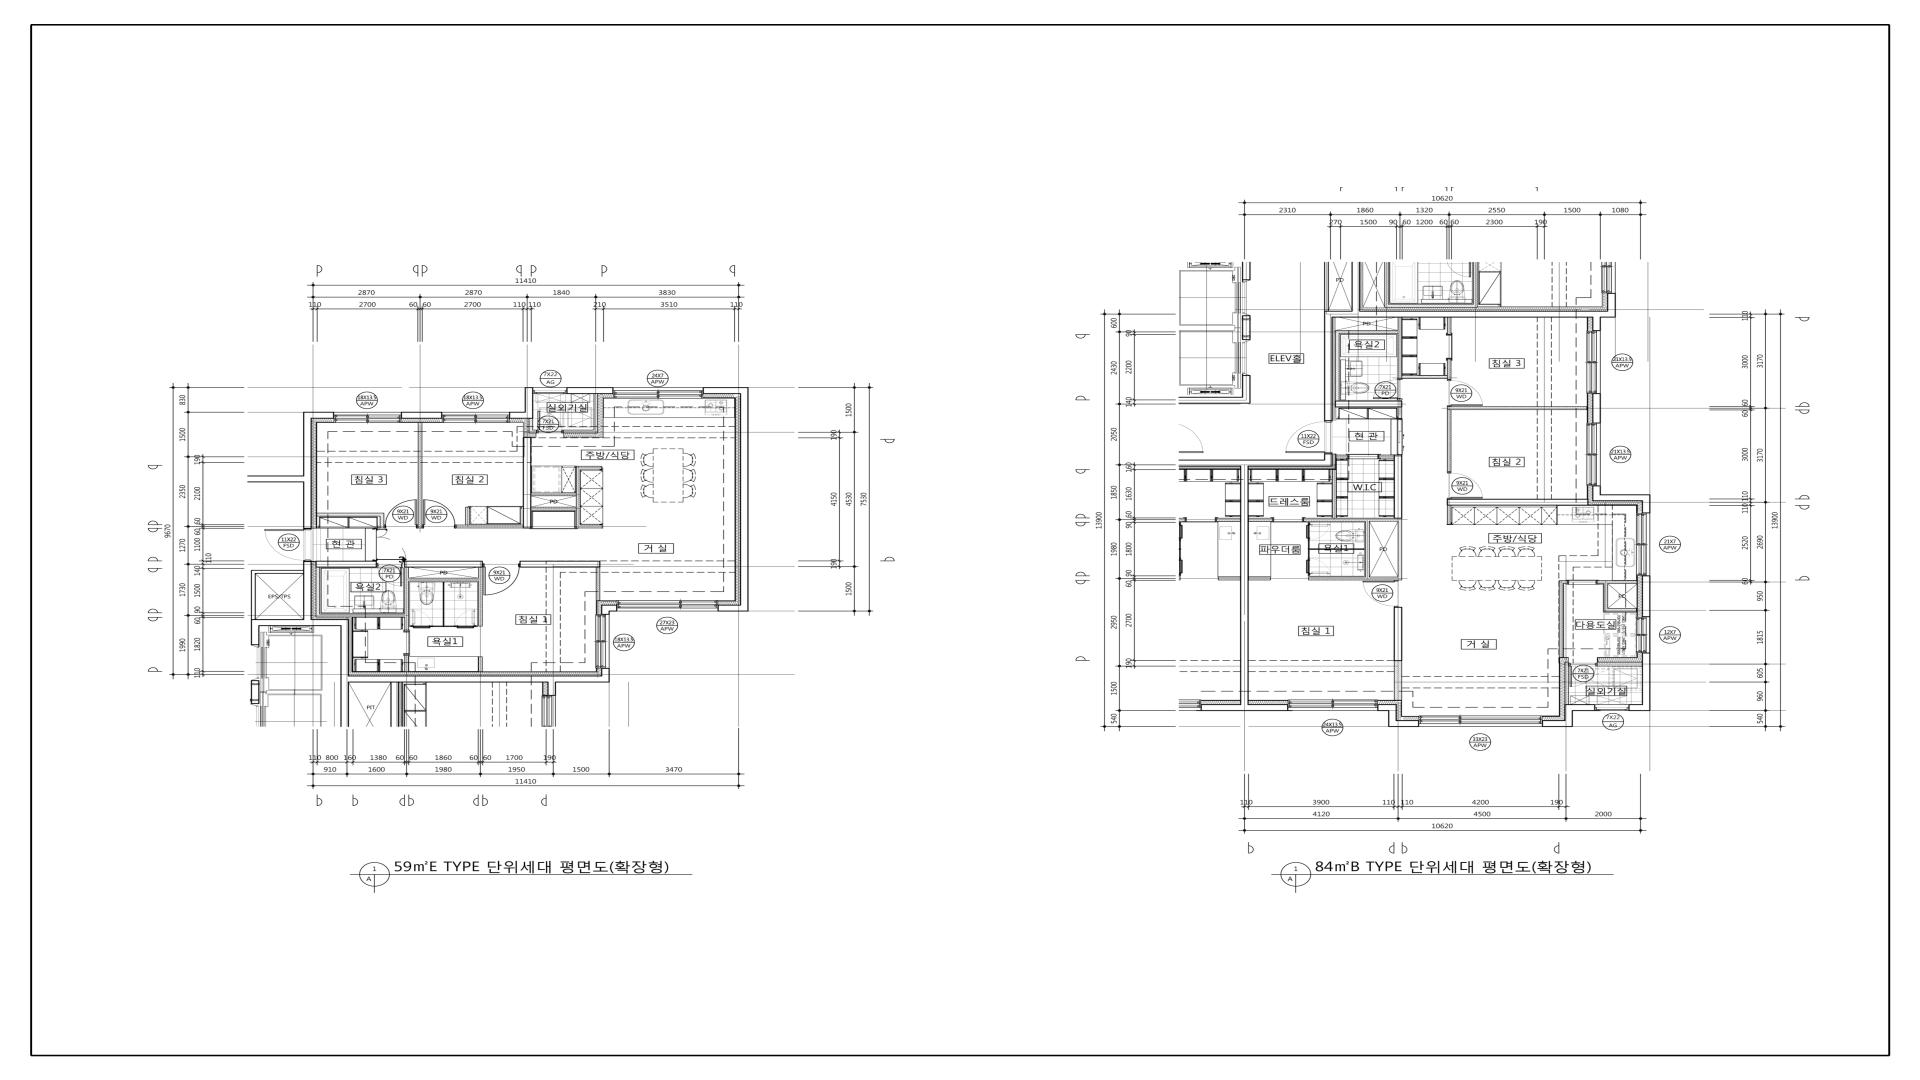door: (264, 528, 312, 561), (1285, 421, 1332, 453), (483, 563, 520, 595), (373, 529, 407, 561), (422, 499, 456, 529), (384, 499, 418, 528), (1363, 580, 1399, 607), (1447, 472, 1483, 499), (1447, 380, 1483, 406), (1569, 663, 1597, 687), (1373, 378, 1402, 401), (537, 411, 564, 433), (1306, 558, 1331, 576), (1306, 522, 1330, 540), (1397, 418, 1403, 455), (403, 630, 410, 656), (1446, 333, 1452, 360), (1273, 517, 1304, 522), (1348, 454, 1379, 459), (1568, 580, 1597, 585)
wall: (1240, 467, 1249, 704), (349, 675, 610, 683), (740, 394, 749, 605), (1324, 311, 1616, 317), (1179, 460, 1332, 467), (1447, 499, 1589, 506), (1324, 317, 1333, 421), (340, 626, 349, 727), (303, 418, 311, 529), (1394, 607, 1402, 701), (523, 437, 531, 528), (251, 619, 349, 626), (1201, 704, 1288, 711), (1447, 406, 1588, 410), (520, 561, 600, 568), (303, 561, 312, 619), (1394, 455, 1402, 518), (1179, 397, 1251, 404), (404, 561, 483, 567), (1642, 653, 1651, 704), (418, 423, 422, 528), (1335, 401, 1403, 407), (1352, 262, 1360, 311), (1642, 576, 1651, 617), (316, 561, 376, 567), (1593, 494, 1642, 501), (247, 476, 303, 482), (567, 387, 613, 394), (703, 387, 748, 394), (404, 567, 409, 630), (1447, 410, 1452, 472), (478, 567, 483, 626), (1304, 518, 1402, 521), (1559, 584, 1563, 657), (401, 412, 442, 419), (1365, 521, 1370, 577), (1308, 577, 1398, 580), (1592, 393, 1601, 423), (1335, 334, 1339, 401), (316, 614, 405, 617), (1335, 330, 1398, 334), (1324, 262, 1329, 311), (251, 570, 256, 619), (1398, 317, 1402, 378), (1332, 470, 1337, 518), (1398, 521, 1402, 580), (1242, 315, 1251, 340), (576, 469, 580, 525), (1542, 720, 1573, 727), (303, 412, 334, 419), (718, 605, 748, 612), (409, 578, 478, 581), (317, 513, 384, 516), (456, 525, 523, 528), (525, 387, 533, 412), (1242, 375, 1251, 397), (251, 680, 259, 704), (256, 570, 303, 574), (316, 567, 320, 614), (1597, 662, 1642, 666), (531, 507, 576, 511), (1402, 375, 1447, 379), (1642, 494, 1651, 513), (1565, 662, 1569, 704), (509, 412, 533, 419), (1242, 262, 1251, 280), (1597, 580, 1637, 584), (601, 605, 617, 615), (1629, 704, 1651, 711), (1397, 720, 1419, 727), (1573, 704, 1595, 711), (251, 626, 259, 645), (1388, 711, 1397, 727), (1564, 704, 1573, 720), (594, 394, 598, 430), (596, 567, 600, 601), (531, 493, 576, 496), (1378, 704, 1397, 711), (1592, 318, 1601, 331), (1608, 608, 1637, 612), (1604, 584, 1608, 612), (529, 419, 537, 433), (1310, 548, 1365, 550), (564, 430, 598, 433), (1249, 518, 1273, 522), (1447, 361, 1452, 380), (465, 507, 470, 525), (404, 655, 409, 671), (1447, 317, 1452, 333), (576, 466, 602, 469), (576, 525, 602, 528), (1447, 506, 1451, 525), (478, 657, 483, 671), (1249, 577, 1271, 580), (1593, 486, 1601, 494), (601, 668, 610, 675), (1324, 453, 1332, 460), (380, 516, 384, 528), (1379, 455, 1394, 458), (1398, 407, 1402, 418), (1558, 580, 1568, 584), (1336, 455, 1348, 458), (1308, 540, 1310, 558)
window: (1419, 716, 1542, 727), (617, 600, 718, 611), (1288, 700, 1378, 711), (613, 388, 703, 399), (1587, 423, 1601, 486), (1636, 513, 1650, 576), (1587, 331, 1601, 393), (595, 614, 610, 668), (333, 412, 401, 423), (442, 412, 510, 423), (1636, 617, 1651, 653), (533, 387, 567, 394), (1595, 704, 1629, 711)
